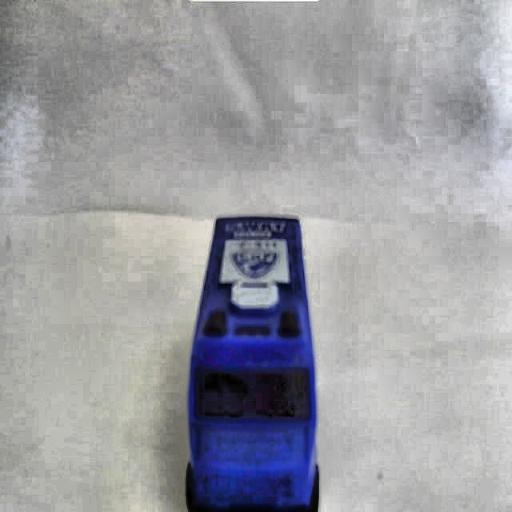police car: (183, 213, 324, 512)
